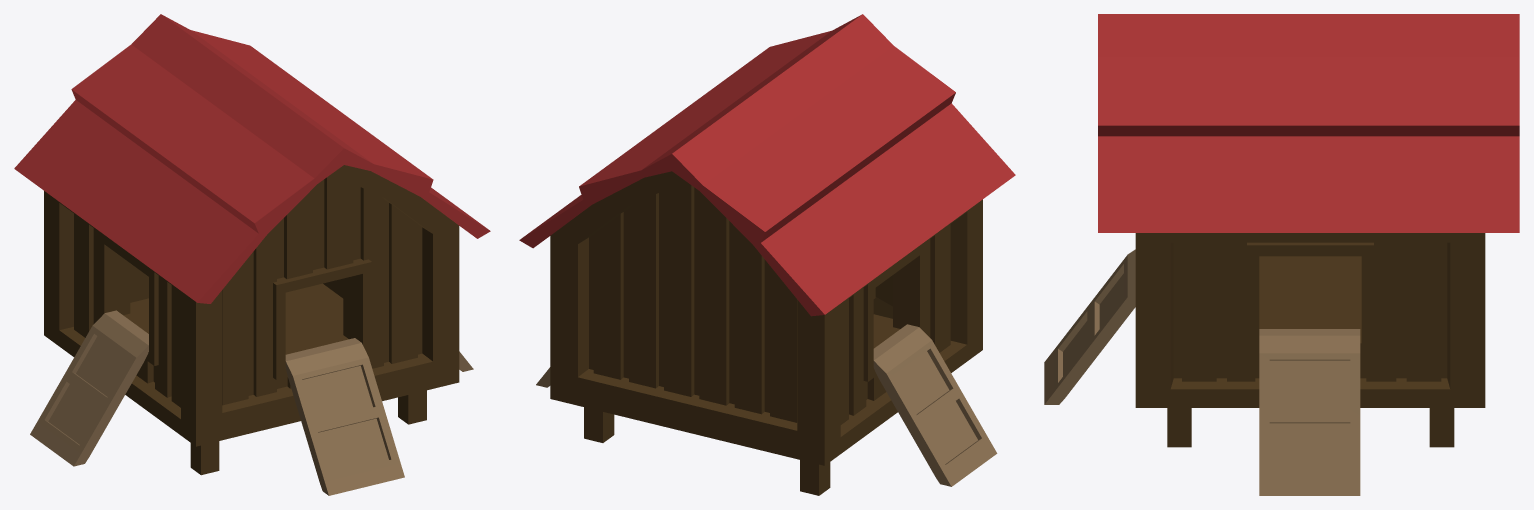
Rendered from ChickenCoop.fbx.
3 views of the same model, side by side, from view 1: azimuth 30°, elevation 25°; view 2: azimuth 150°, elevation 25°; view 3: azimuth 270°, elevation 25° (orthographic). The views are drawn at different scales.
Visible parts, largest first — view 1: ChickenCoop; view 2: ChickenCoop; view 3: ChickenCoop.
Part boxes in pixels (x1=…): ChickenCoop: x1=14, y1=14, x2=490, y2=495; ChickenCoop: x1=519, y1=14, x2=1015, y2=495; ChickenCoop: x1=1044, y1=14, x2=1519, y2=495.
Bounding box in the file's own units: 2.41 × 1.85 × 2.15.
